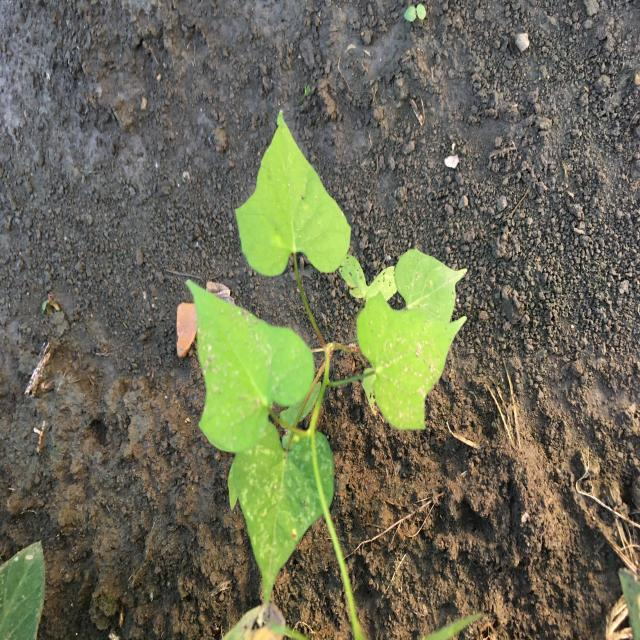MorningGlory: (184, 106, 471, 636)
